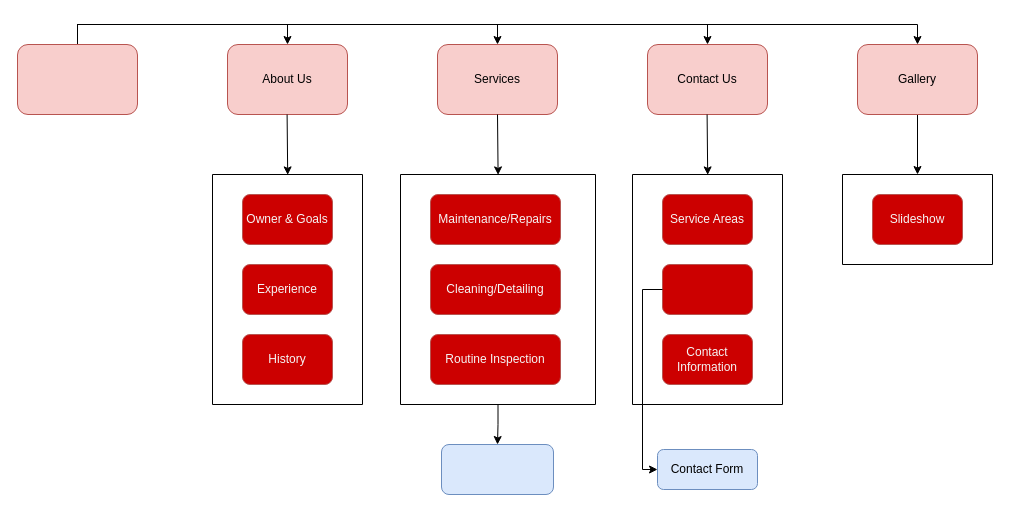
This 1010x512 diagram has some shape labels left out. Each missing label, with the centre of its shape:
"General Inquiry" goes at (707,289).
"Home Page" goes at (77,79).
"Service Request Quote Form" goes at (497,469).
